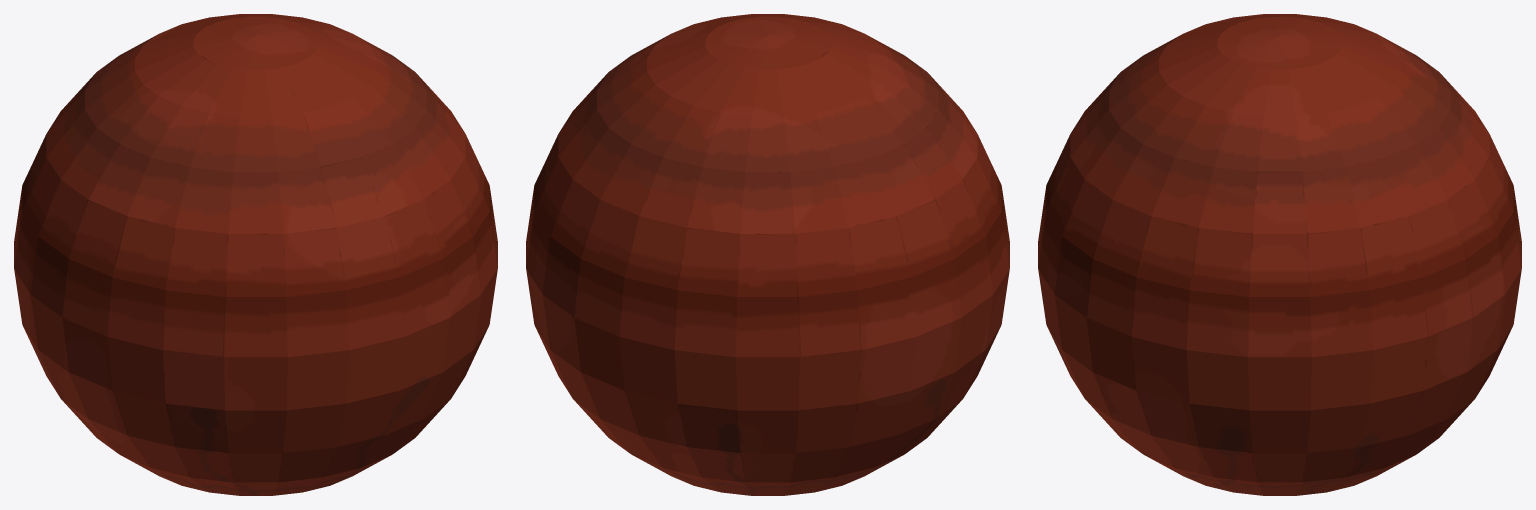
The model's file is finalPlanet.fbx.
3 views of the same model, side by side, from view 1: azimuth 30°, elevation 25°; view 2: azimuth 150°, elevation 25°; view 3: azimuth 270°, elevation 25° (orthographic).
Parts seen in each view (by area): view 1: finalPlanet; view 2: finalPlanet; view 3: finalPlanet.
Part boxes in pixels (x1,y1,x2,y2): finalPlanet: [14, 14, 497, 495]; finalPlanet: [526, 14, 1009, 495]; finalPlanet: [1038, 14, 1521, 495].
Bounding box in the file's own units: 800 × 800 × 800.
1 material, 1 textured.
